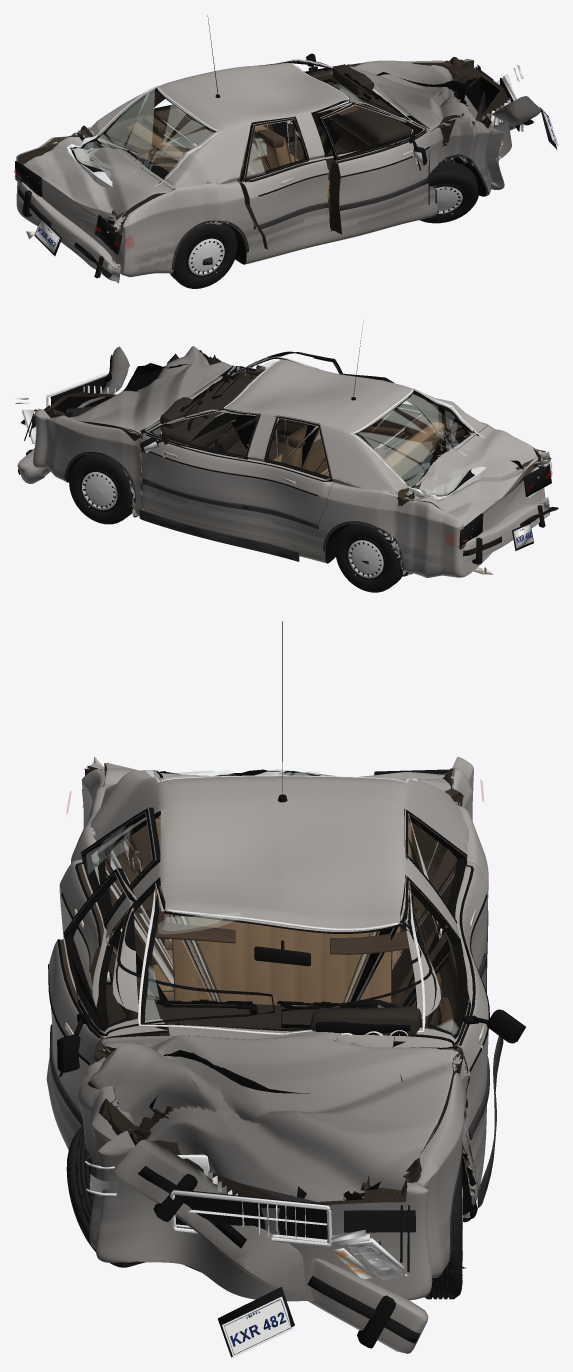
Rendered from sedan87_front_corner_R_d2_lod1.glb.
3 views of the same model, one above another, from view 1: azimuth 30°, elevation 25°; view 2: azimuth 150°, elevation 25°; view 3: azimuth 270°, elevation 25° (orthographic). The views are drawn at different scales.
Parts seen in each view (by area): view 1: Body, Door_FR, Interior, Trunk, Glass, Door_RR, Hood, Wheel_RR_mesh, Bumper_R, Ends, Wheel_FR_mesh, Trim_FR (+6 smaller); view 2: Body, Door_FL, Interior, Trunk, Door_RL, Glass, Hood, Wheel_FL_mesh, Wheel_RL_mesh, Ends, Trim, Bumper_R (+6 smaller); view 3: Body, Hood, Interior, Bumper_F, Ends, Door_FR, Door_FL, Glass, Door_RR, Trim_FR, Trim_FL, Door_RL (+7 smaller).
Boxes of the visible parts, bbox=[...] form: Body: bbox=[16, 57, 511, 277]; Door_FR: bbox=[318, 103, 430, 234]; Interior: bbox=[128, 64, 414, 200]; Trunk: bbox=[24, 132, 171, 220]; Glass: bbox=[65, 59, 412, 187]; Door_RR: bbox=[240, 117, 330, 249]; Hood: bbox=[348, 60, 477, 131]; Wheel_RR_mesh: bbox=[170, 223, 237, 288]; Bumper_R: bbox=[18, 181, 120, 283]; Ends: bbox=[15, 64, 558, 255]; Wheel_FR_mesh: bbox=[419, 161, 478, 223]; Trim_FR: bbox=[321, 96, 429, 210]; Body: bbox=[33, 350, 551, 577]; Door_FL: bbox=[140, 409, 261, 532]; Interior: bbox=[158, 375, 444, 476]; Trunk: bbox=[407, 426, 541, 526]; Door_RL: bbox=[240, 415, 334, 547]; Glass: bbox=[159, 356, 486, 500]; Hood: bbox=[69, 346, 232, 435]; Wheel_FL_mesh: bbox=[69, 454, 132, 524]; Wheel_RL_mesh: bbox=[335, 523, 402, 592]; Ends: bbox=[14, 373, 551, 550]; Trim: bbox=[64, 320, 404, 570]; Bumper_R: bbox=[463, 497, 558, 564]; Body: bbox=[71, 756, 488, 1301]; Hood: bbox=[87, 1034, 460, 1201]; Interior: bbox=[126, 815, 439, 1036]; Bumper_F: bbox=[114, 1139, 428, 1353]; Ends: bbox=[82, 769, 448, 1357]; Door_FR: bbox=[46, 868, 167, 1149]; Door_FL: bbox=[393, 875, 488, 1182]; Glass: bbox=[138, 769, 425, 1034]; Door_RR: bbox=[59, 807, 160, 1025]; Trim_FR: bbox=[48, 869, 274, 1125]; Trim_FL: bbox=[281, 876, 525, 1139]; Door_RL: bbox=[404, 809, 487, 997].
Bounding box in the file's own units: 4.91 × 2.14 × 2.03.
Materials: 33 (5 with a texture image).
